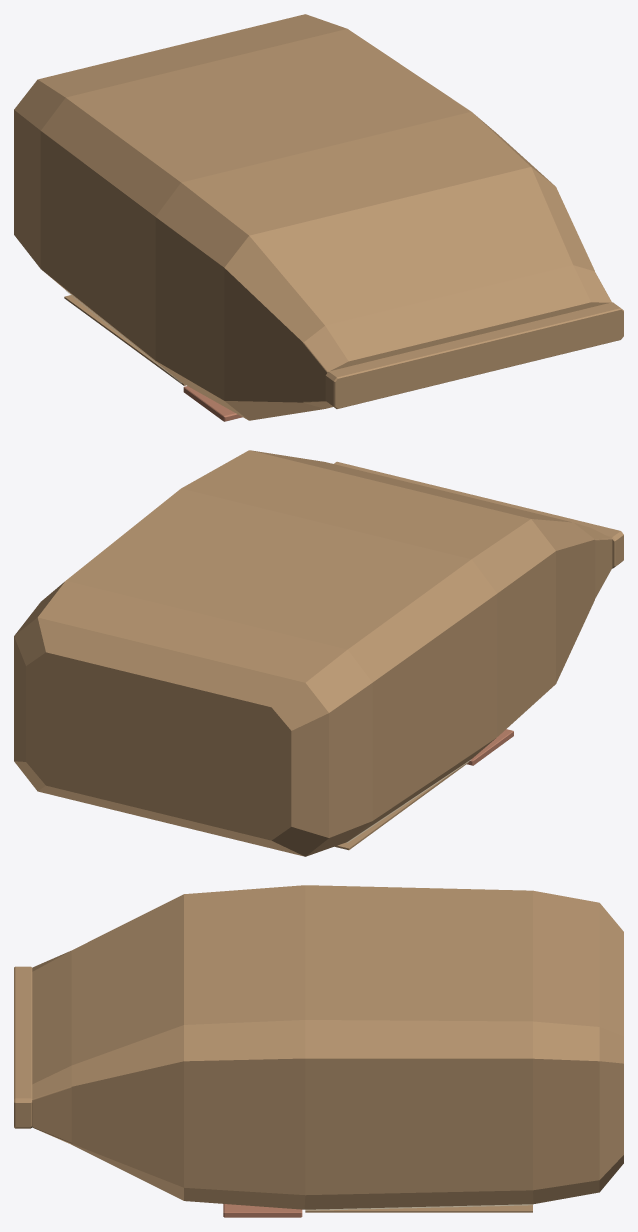
The model's file is bulgur.glb.
3 views of the same model, one above another, from view 1: azimuth 30°, elevation 25°; view 2: azimuth 150°, elevation 25°; view 3: azimuth 270°, elevation 25° (orthographic). The views are drawn at different scales.
Visible parts, largest first — view 1: bulgur; view 2: bulgur; view 3: bulgur.
Boxes of the visible parts, x1,y1,x2,y2 form: bulgur: (14,14,623,421); bulgur: (14,450,623,856); bulgur: (14,885,623,1217).
Bounding box in the file's own units: 0.1236 × 0.0721 × 0.201.
